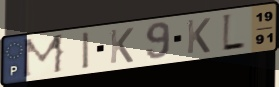9: (144, 20, 172, 62)
I: (80, 30, 91, 72)
K: (185, 16, 213, 56), (109, 26, 136, 65)
L: (221, 12, 247, 54)
M: (21, 32, 67, 80)
